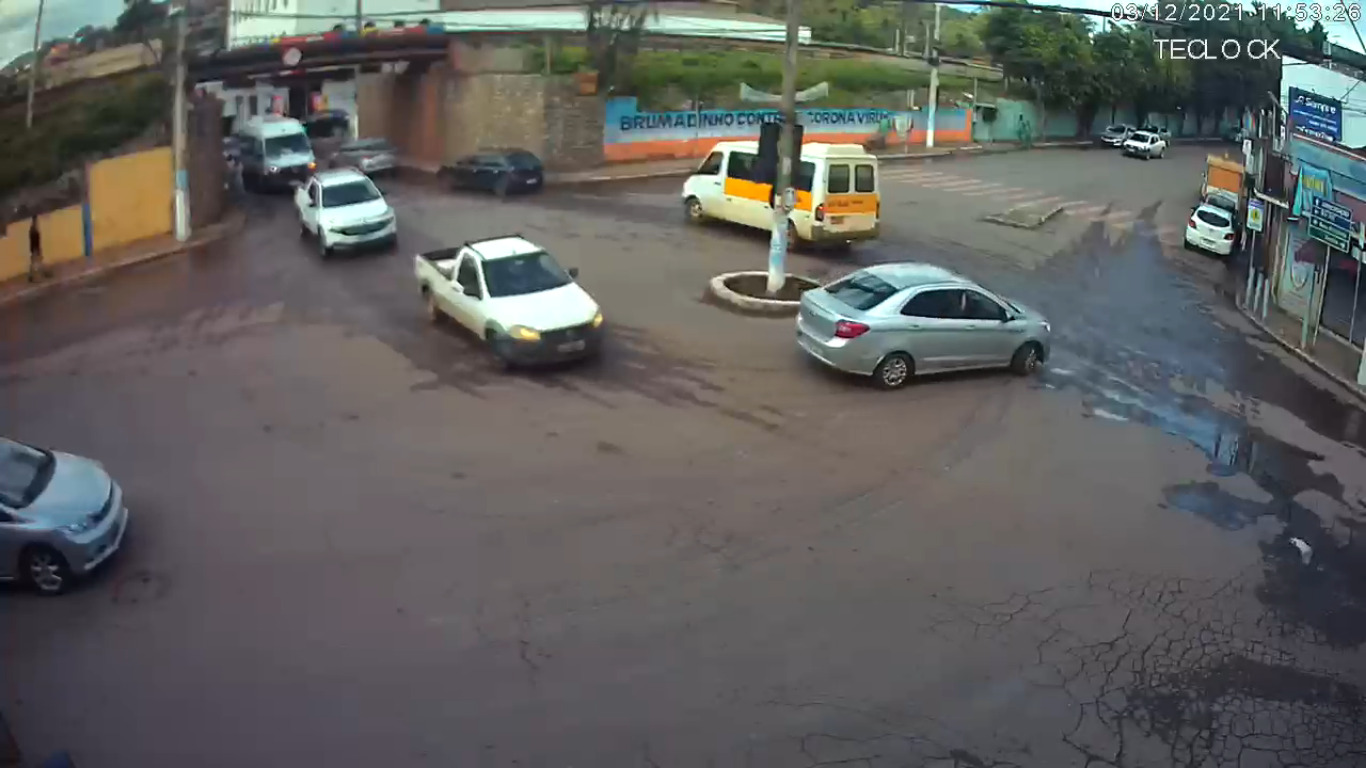car: (795, 258, 1051, 386), (409, 229, 604, 376), (679, 138, 881, 253), (1, 435, 133, 597), (290, 163, 403, 263), (433, 144, 546, 201), (1184, 202, 1236, 258), (1120, 131, 1168, 163)
